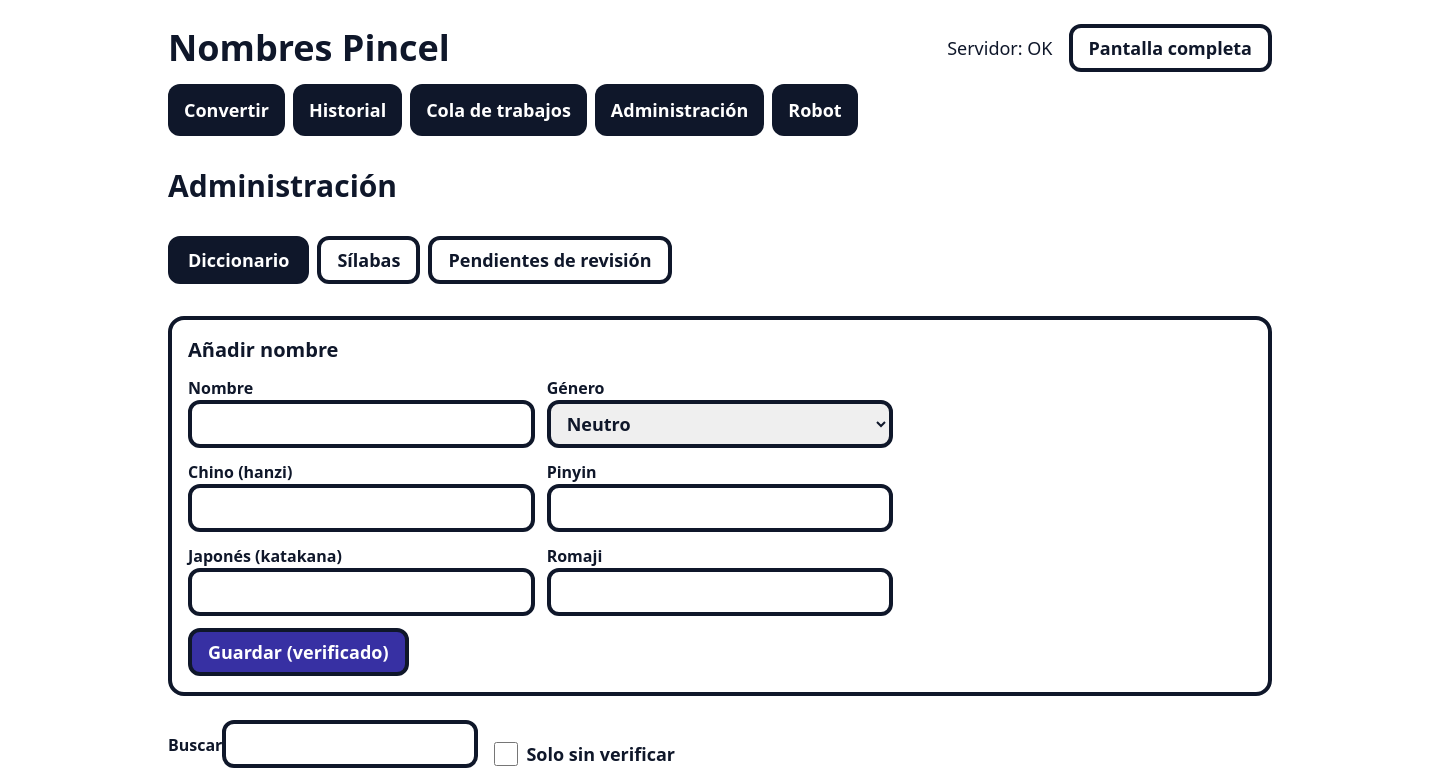
Test: AdminPage › añade un nombre nuevo como verificado y refresca la lista
Step 1. Type "Zacarías" into the field labelled "Nombre" → x=361, y=424, box [188,400,535,448]
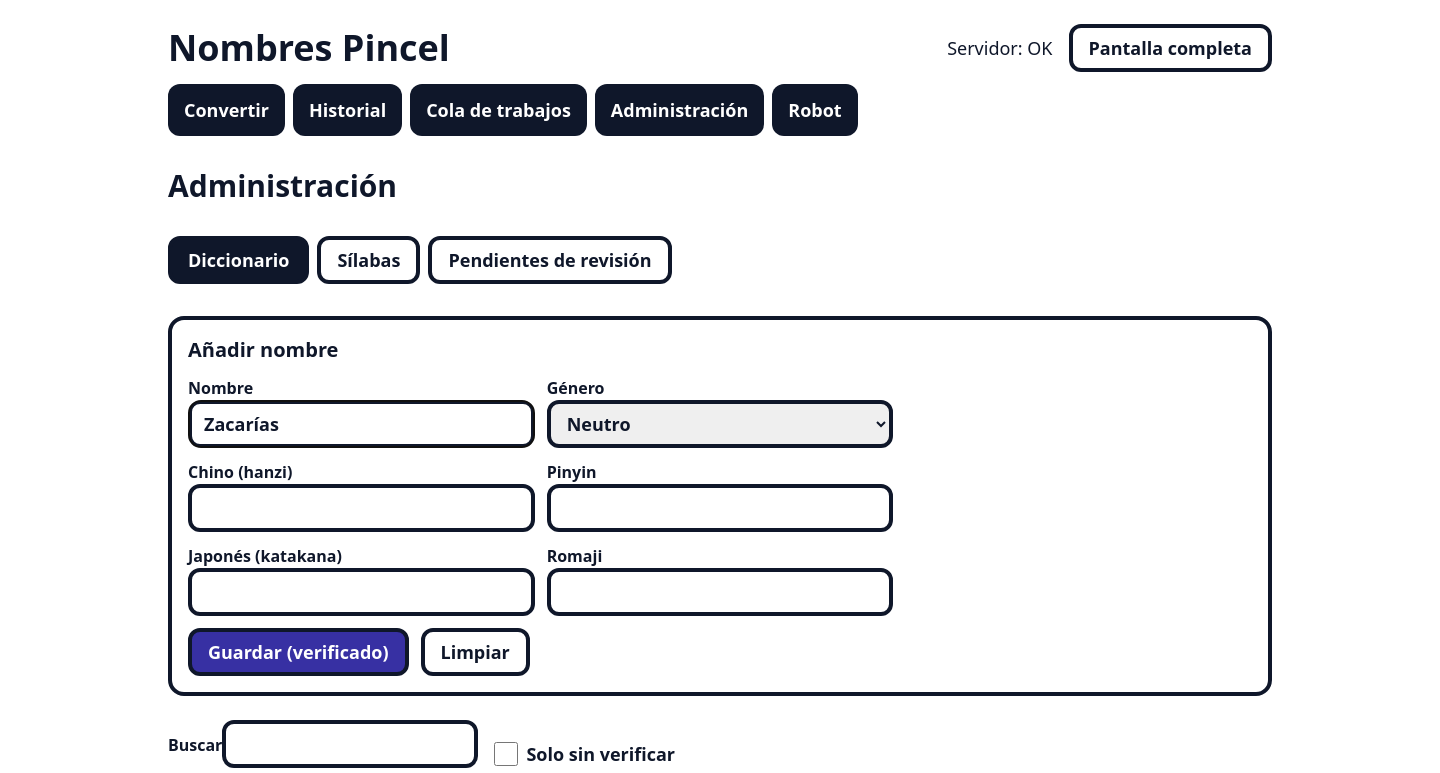
Step 2. Type "安娜" into the field labelled "Chino (hanzi)" → x=361, y=508, box [188,484,535,532]
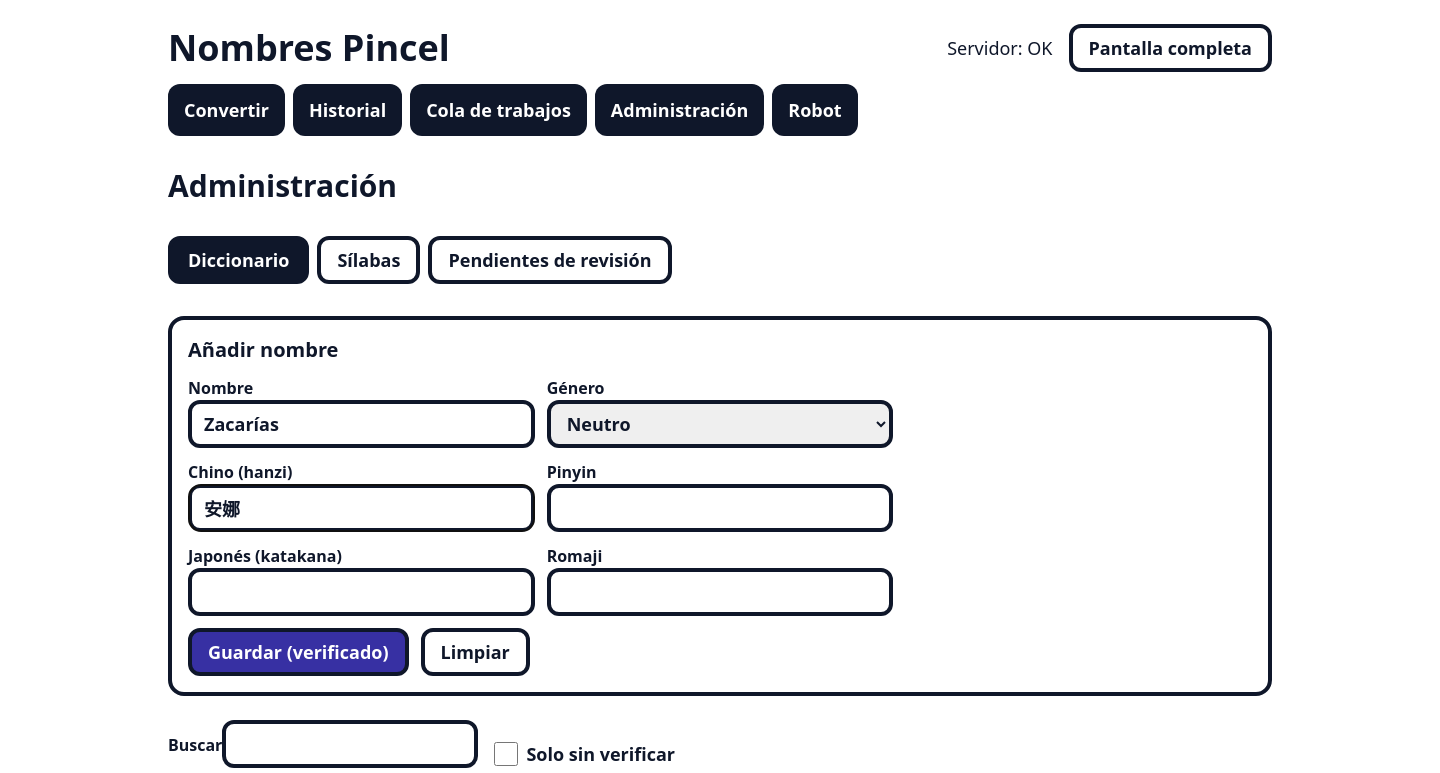
Step 3. Type "ān nà" into the field labelled "Pinyin" → x=720, y=508, box [547,484,893,532]
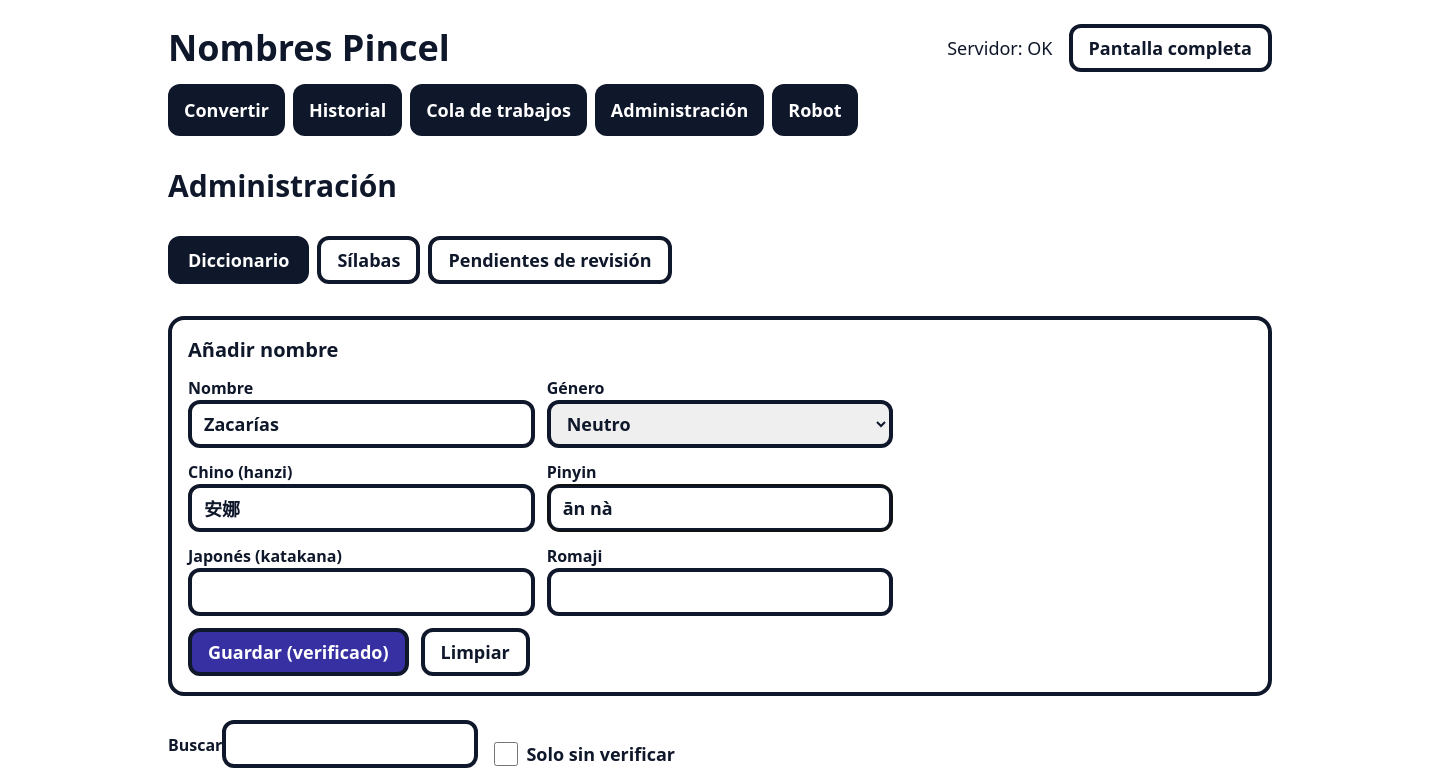
Step 4. Type "サカリアス" into the field labelled "Japonés (katakana)" → x=361, y=592, box [188,568,535,616]
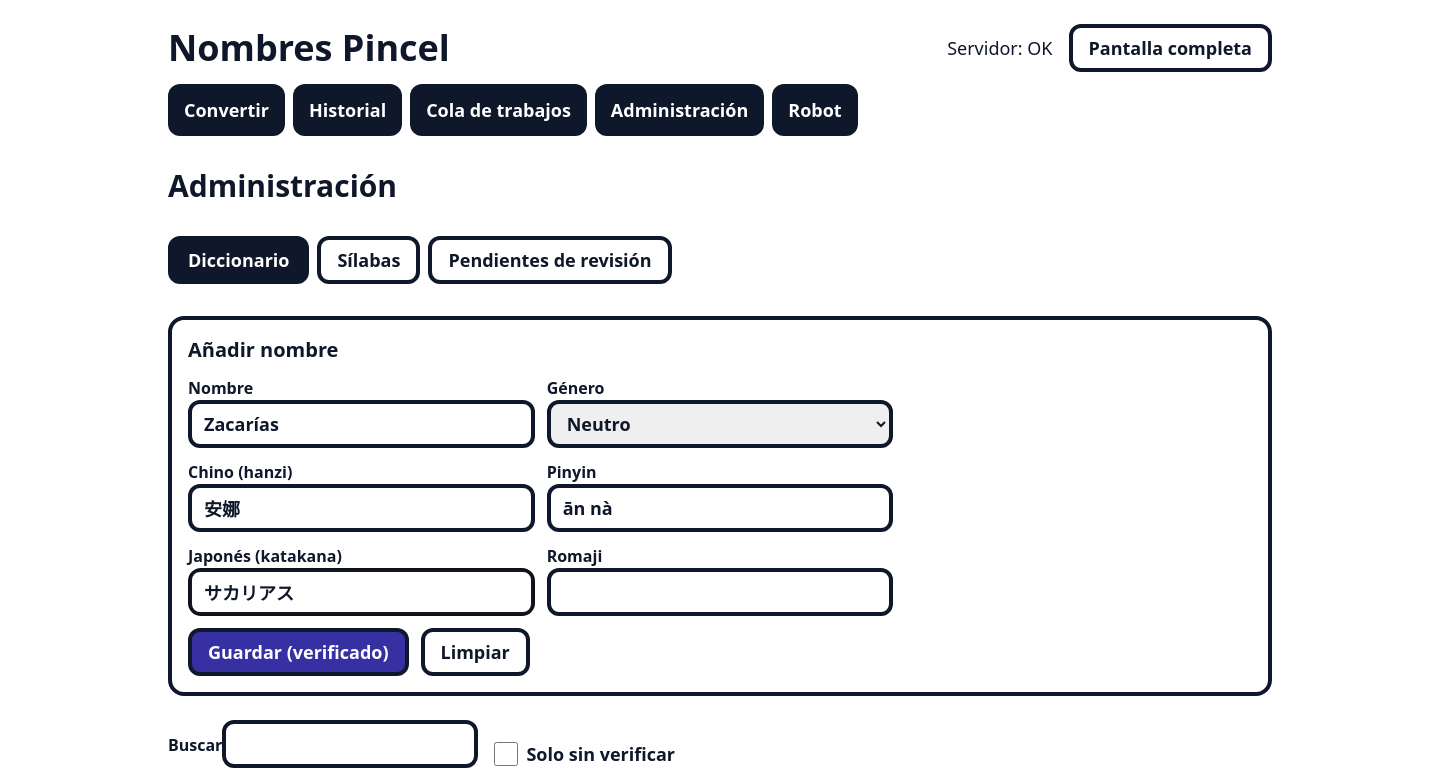
Step 5. Type "sakariasu" into the field labelled "Romaji" → x=720, y=592, box [547,568,893,616]
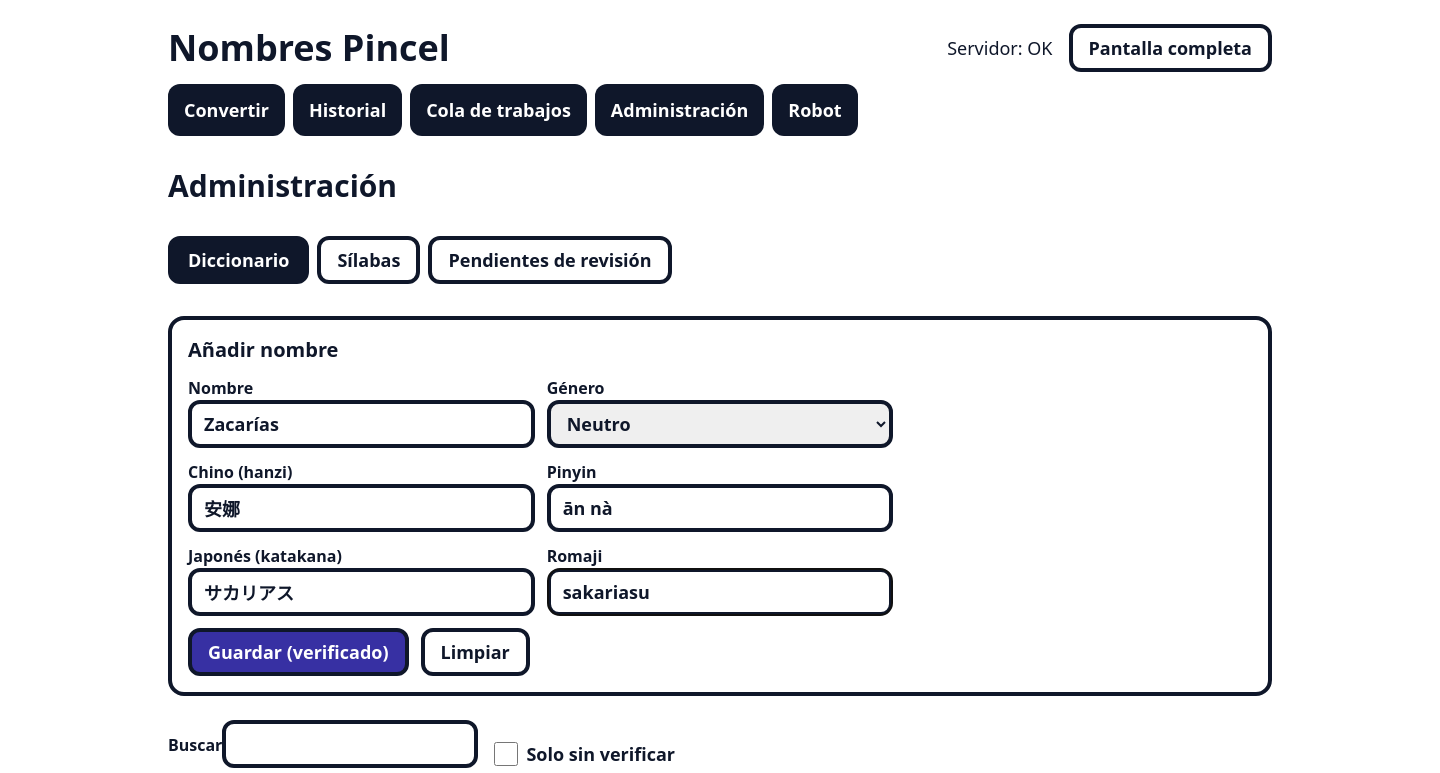
Step 6. Click the button "Guardar (verificado)" → x=298, y=652, box [188,628,408,676]
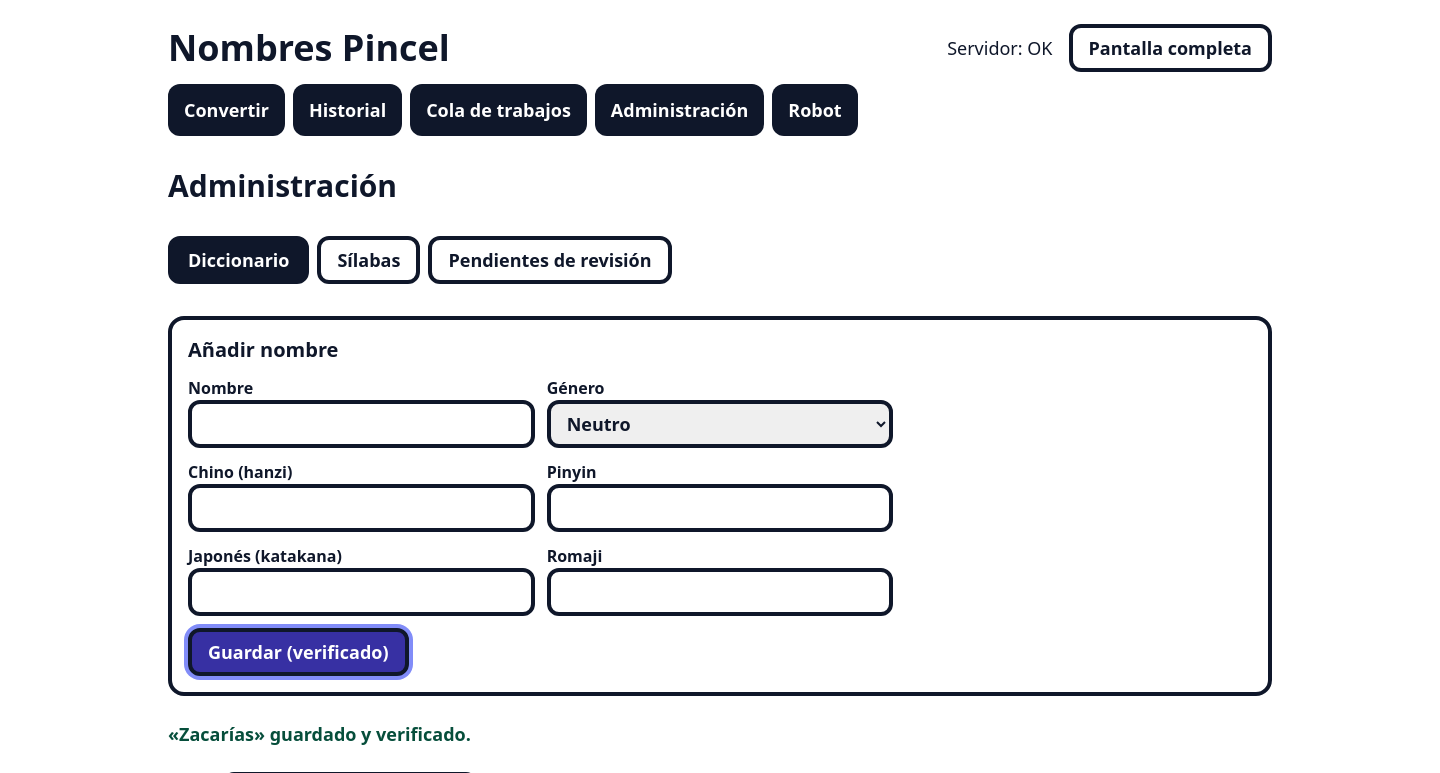
Expected: the text "«Zacarías» guardado y verificado." is shown, [168,722,471,746]
Expected: the field labelled "Nombre" is empty, [188,400,535,448]
